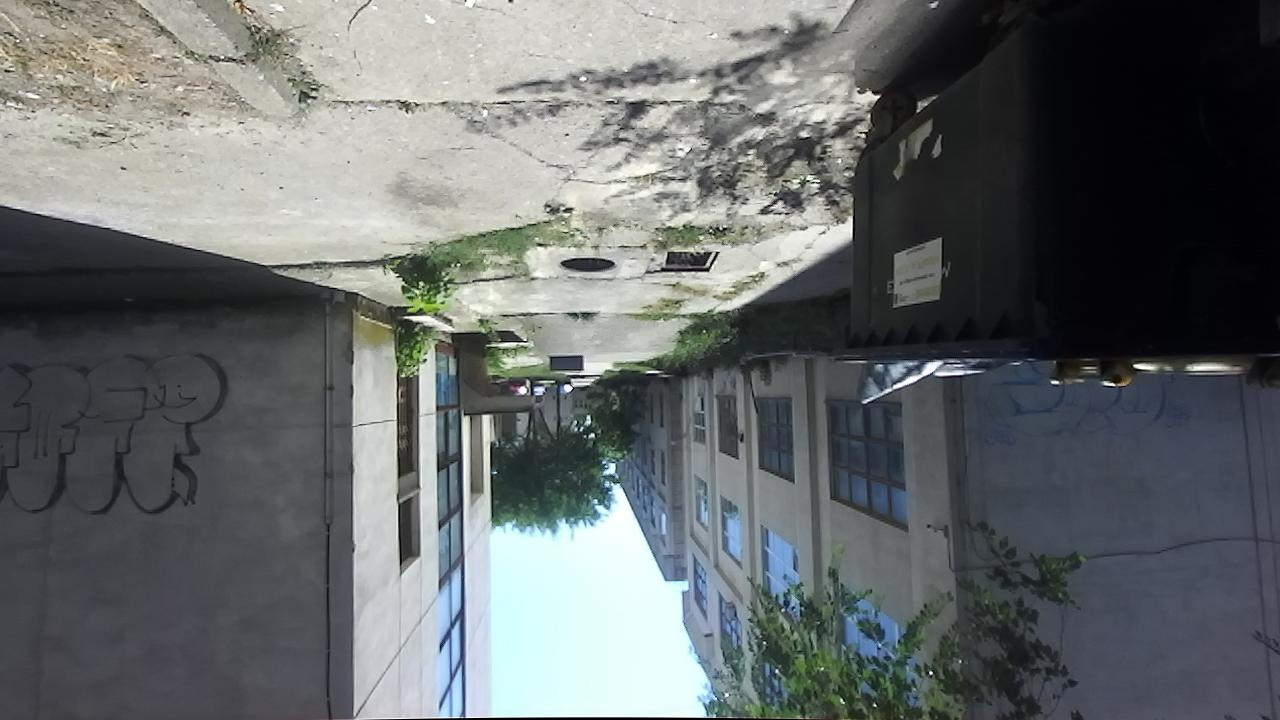drain: (653, 244, 724, 279), (553, 253, 622, 278)
